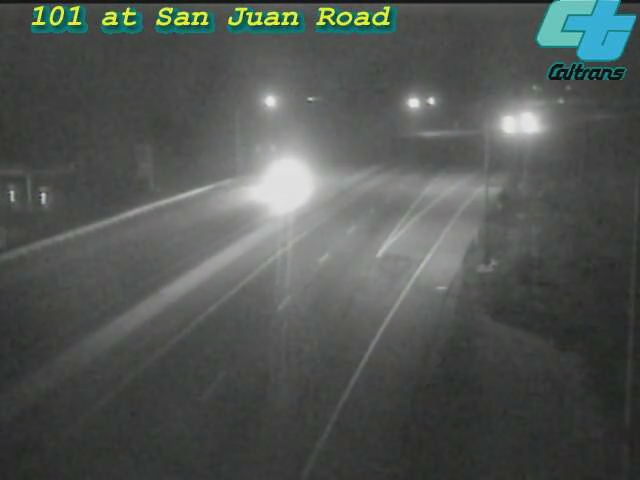vehicle: (244, 138, 324, 218), (509, 105, 559, 155), (484, 100, 534, 150), (503, 96, 553, 146)
